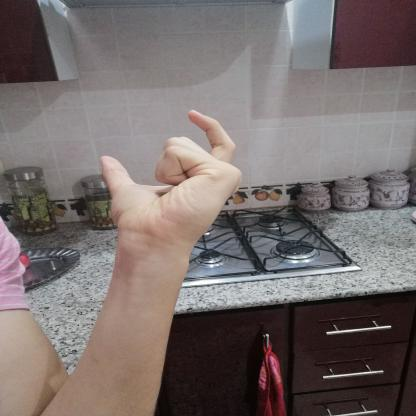NOON: (83, 100, 261, 267)
